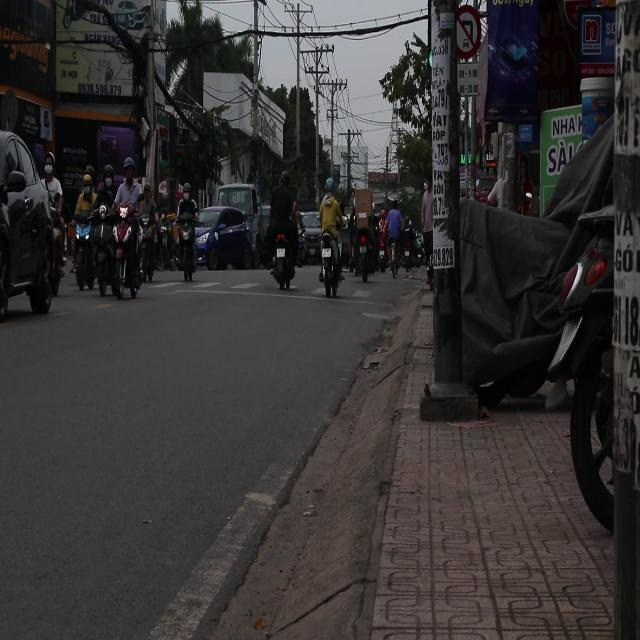car: (194, 206, 251, 269), (297, 212, 322, 262)
motorbike: (0, 179, 59, 319), (100, 210, 146, 300), (70, 214, 98, 294), (137, 209, 164, 285), (174, 210, 198, 280), (270, 238, 298, 290), (319, 230, 337, 308)
truck: (213, 184, 262, 258)
